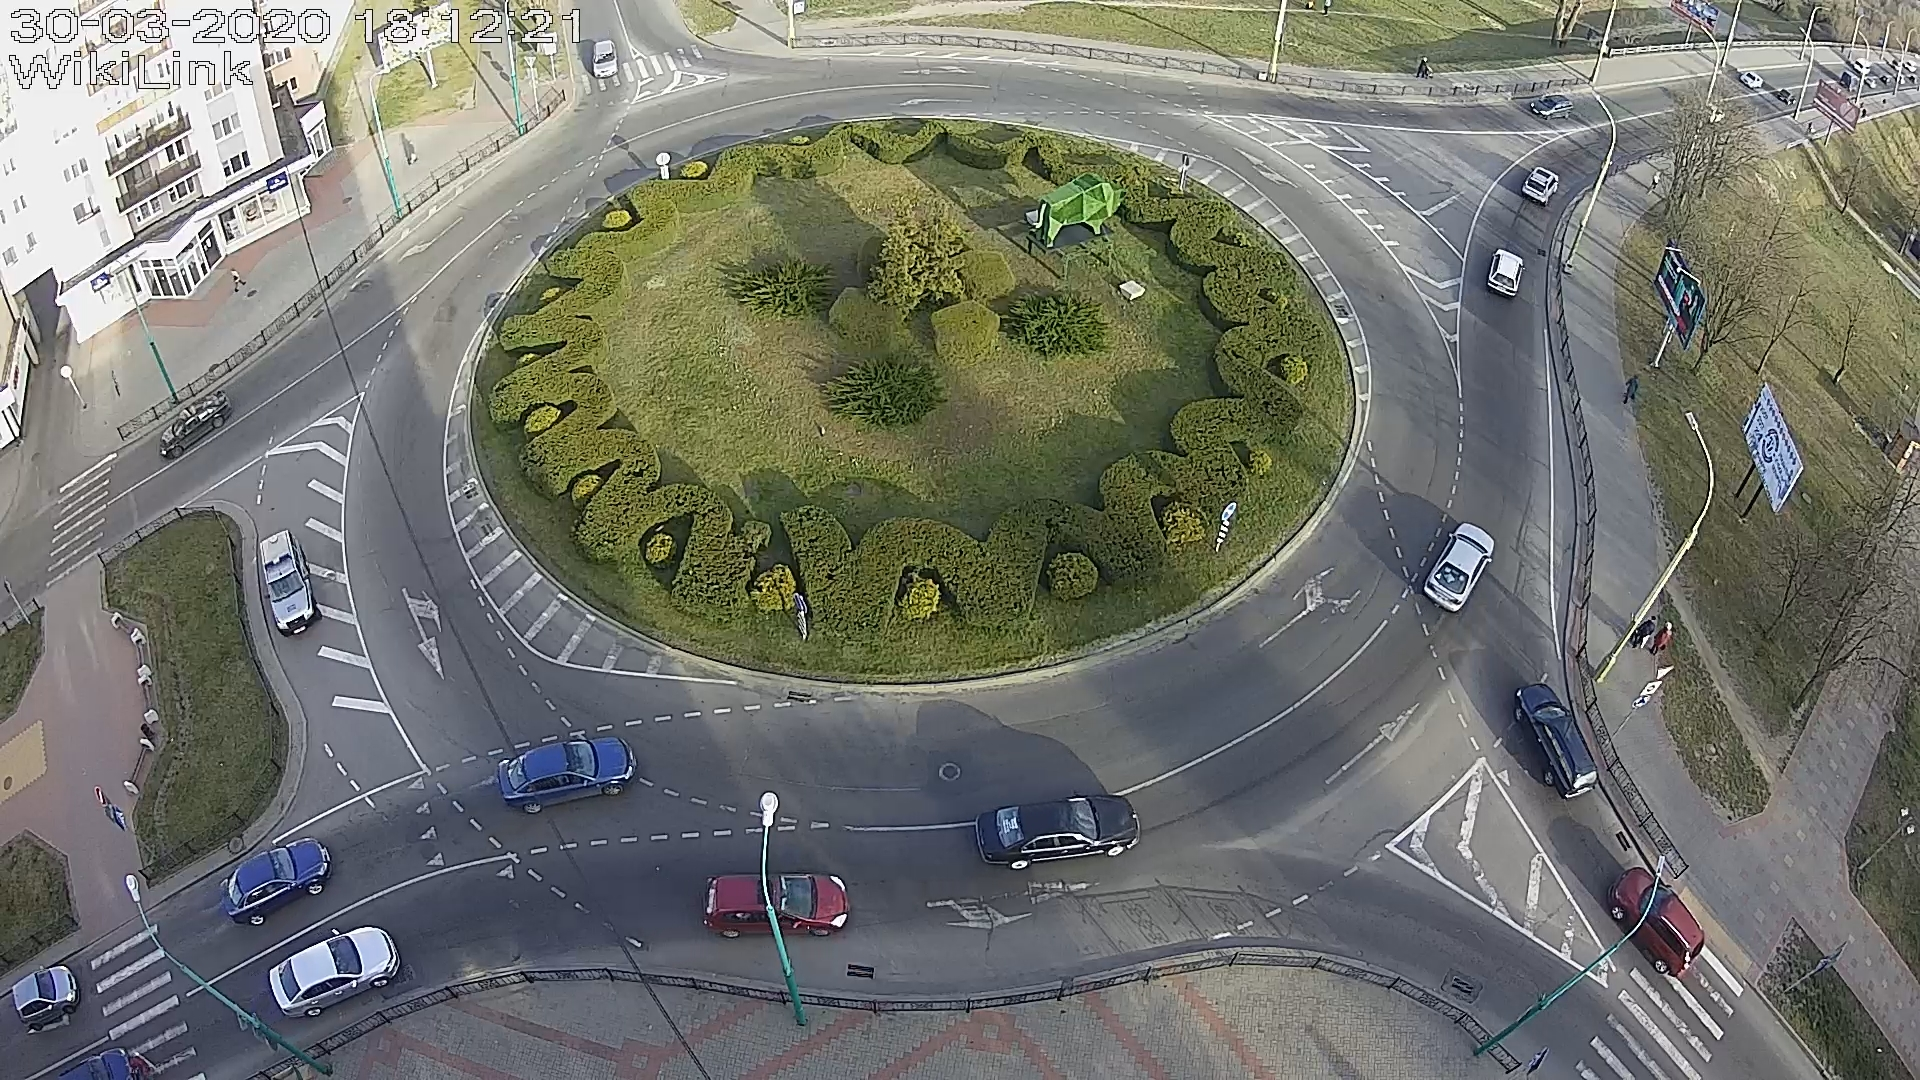car: (975, 791, 1142, 872), (268, 926, 401, 1021), (497, 736, 637, 816), (1606, 866, 1705, 977), (1513, 683, 1600, 800), (220, 837, 334, 927), (702, 873, 851, 938), (260, 529, 322, 638), (1423, 522, 1495, 613), (160, 389, 233, 459), (11, 964, 79, 1033), (1486, 248, 1526, 297), (1522, 166, 1559, 206), (1530, 95, 1575, 120), (592, 38, 618, 78)
